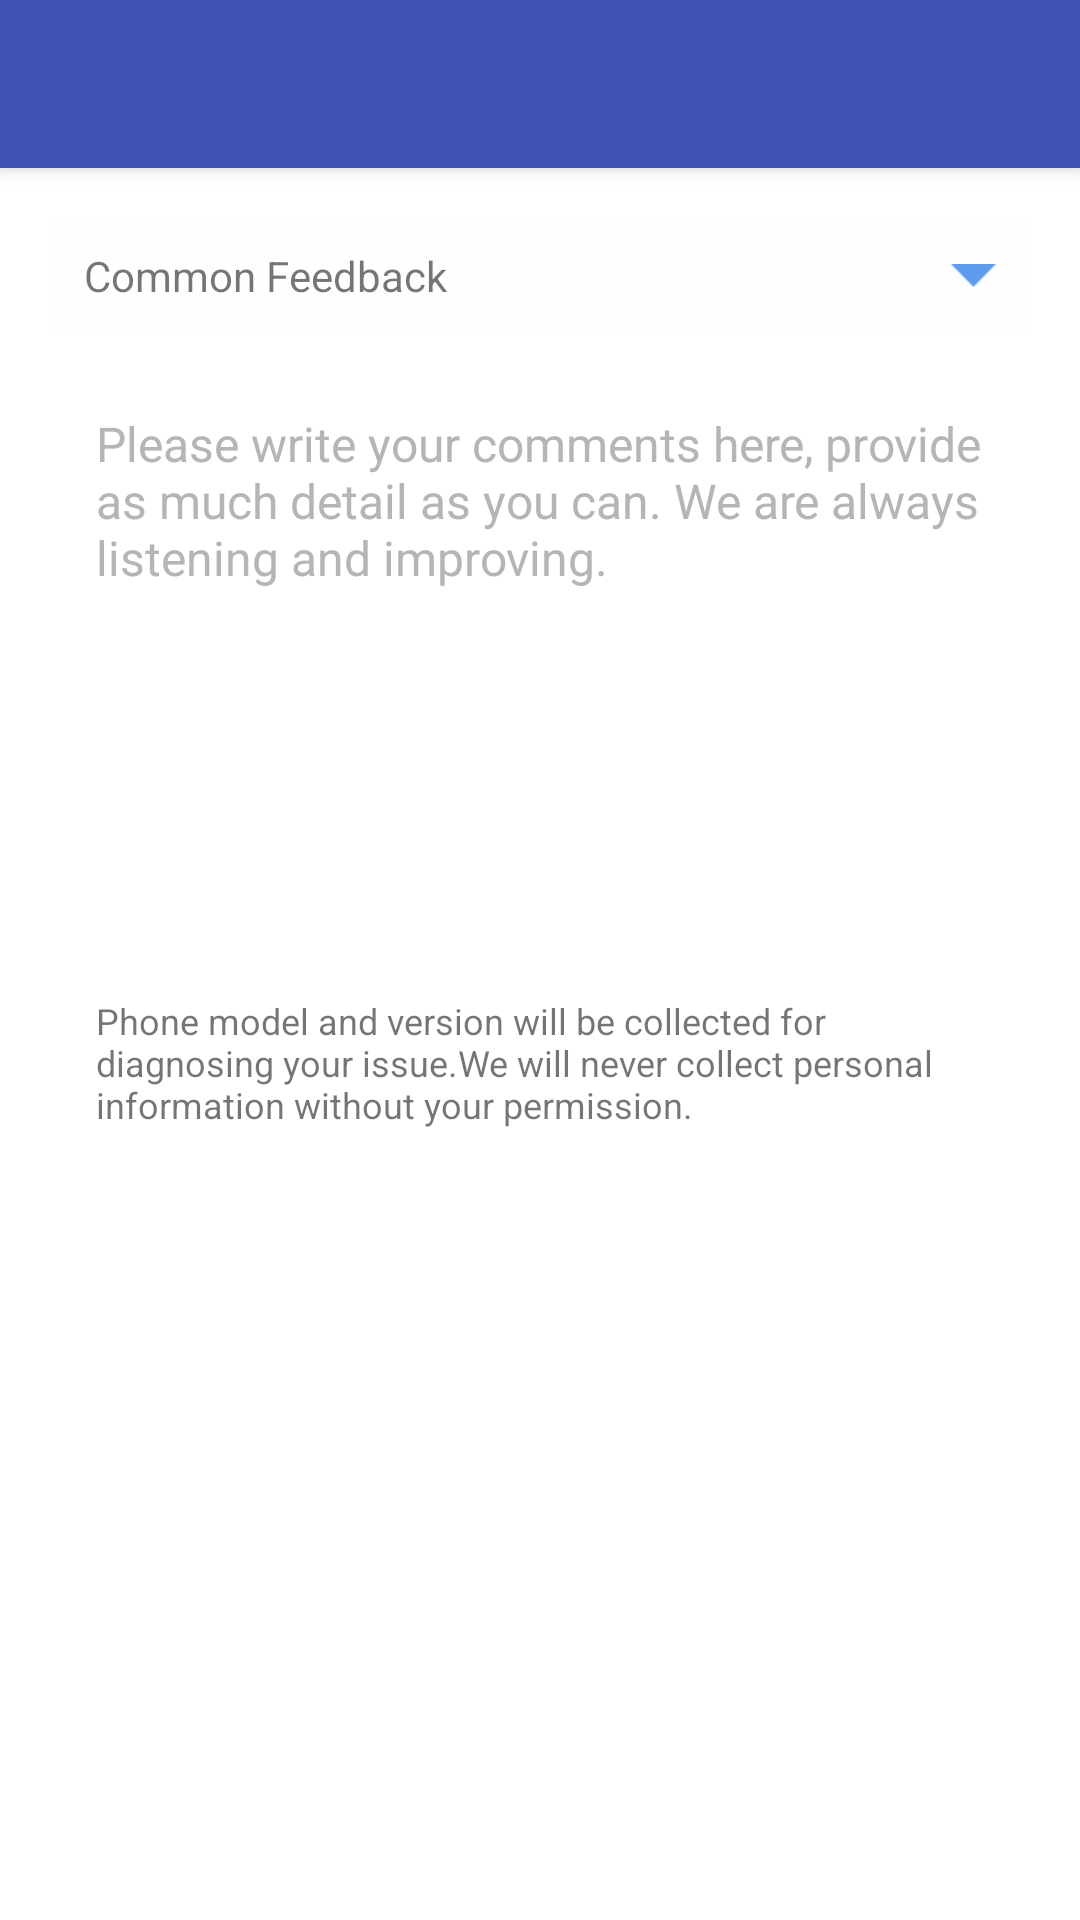

Icon click points for this 1080 x 1920 phone screenshot, format (x,y):
arrow: (973,275)
